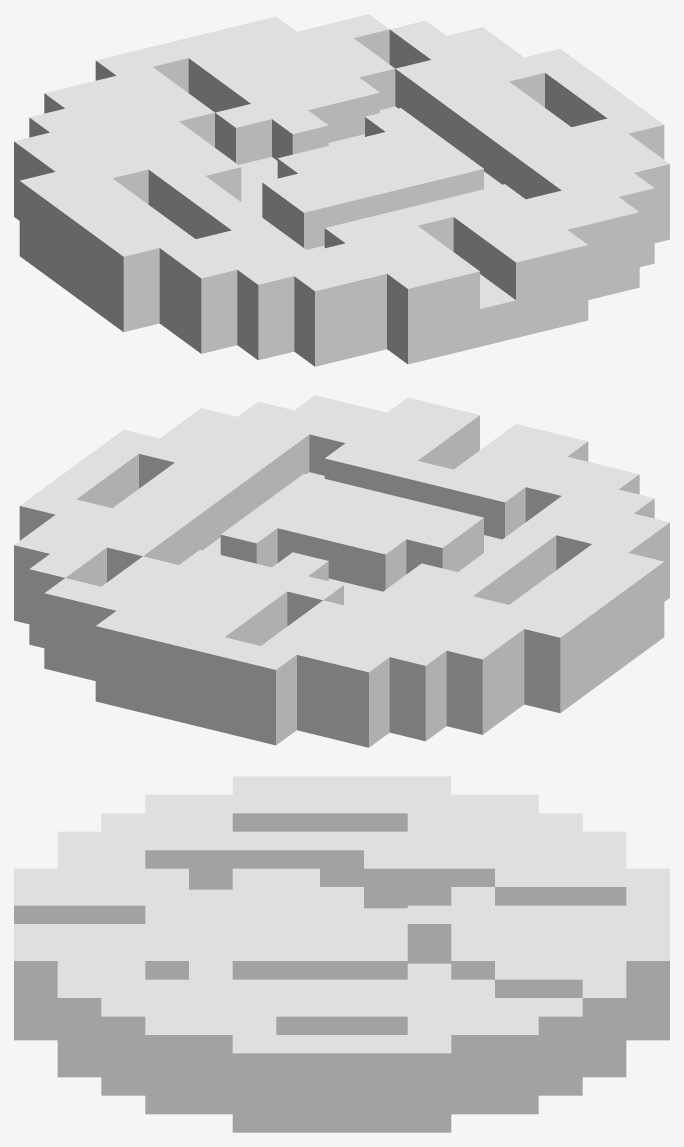
The model's file is coin.obj.
The picture shows the model from 3 angles, top to bottom: view 1: azimuth 30°, elevation 25°; view 2: azimuth 150°, elevation 25°; view 3: azimuth 270°, elevation 25°; orthographic projection. The views are drawn at different scales.
Size of the model in its own units: 1.5 by 0.2 by 1.5.
